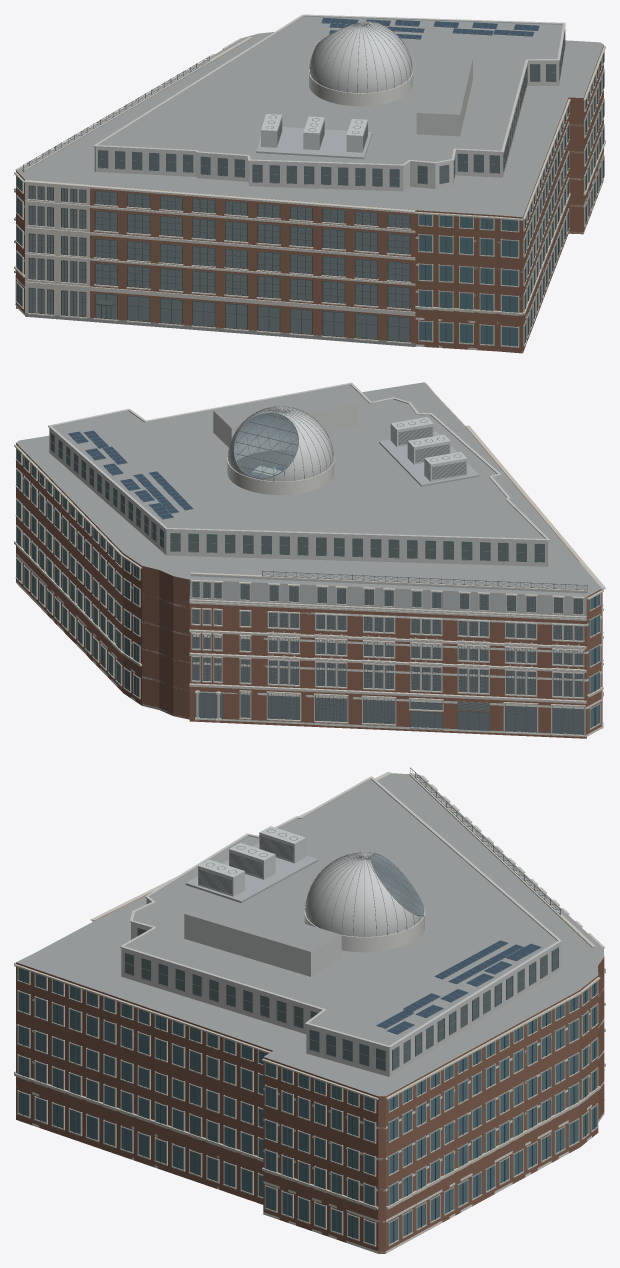
The model's file is lrb-exterior-82ad54717d20.glb.
3 renders of one model, top to bottom at view 1: azimuth 30°, elevation 25°; view 2: azimuth 150°, elevation 25°; view 3: azimuth 270°, elevation 25°, orthographic. The views are drawn at different scales.
Visible parts, largest first — view 1: LRB.001; view 2: LRB.001; view 3: LRB.001.
Boxes of the visible parts, x1,y1,x2,y2 form: LRB.001: (14,14,605,353); LRB.001: (14,382,605,738); LRB.001: (14,767,605,1253).
Bounding box in the file's own units: 89.68 × 33.13 × 68.95.
